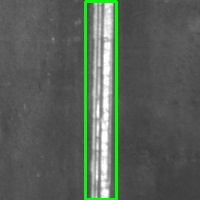scratches: (85, 1, 116, 199)
